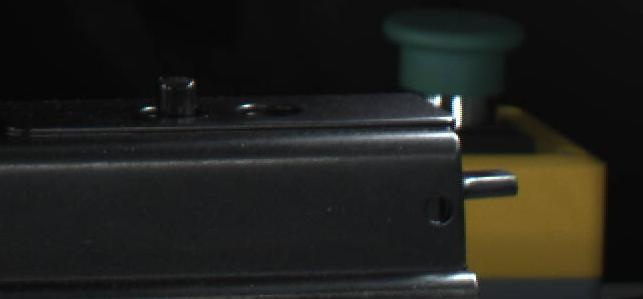rubber: (452, 165, 521, 202)
screw: (153, 71, 202, 120)
